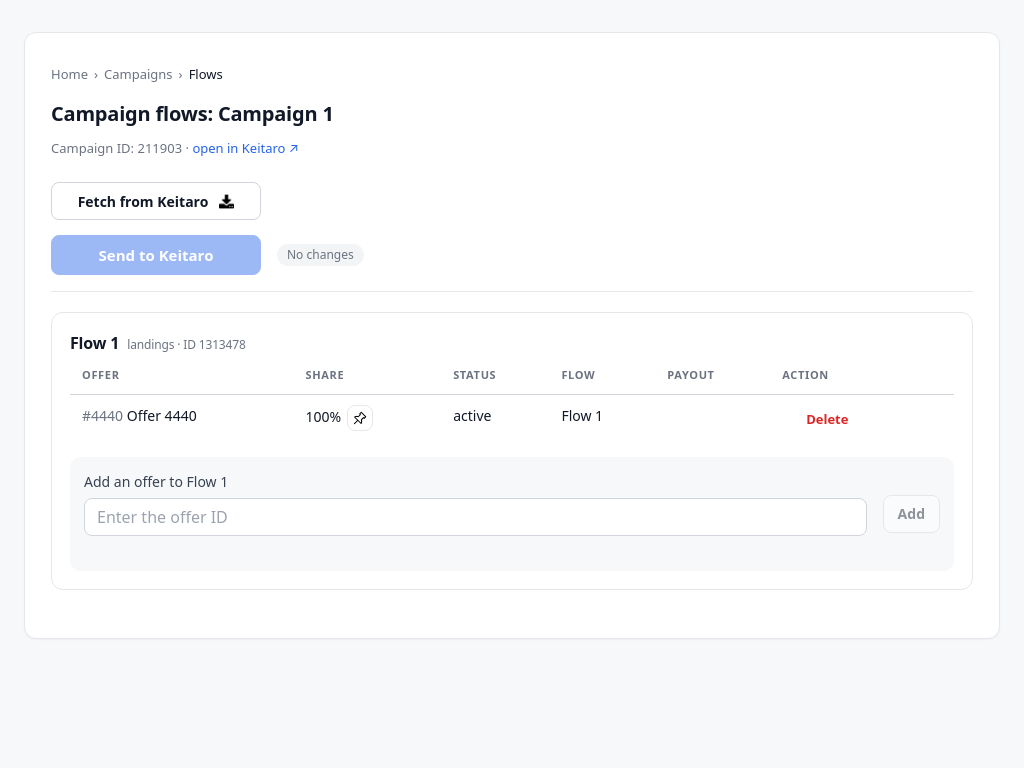
Test: StreamsContent — weight pins › 404 on PUT pins (a backend without pin routes): the honest text "The server does not support pinned weights yet."
The width and height of the screenshot is (1024, 768).
Expected: the text "#4440" is shown, [82,406,123,424]
Step 1. Click the button named "Pin the weight of offer #4440 in flow Flow 1" → {"x": 360, "y": 418}, box [347,404,373,430]
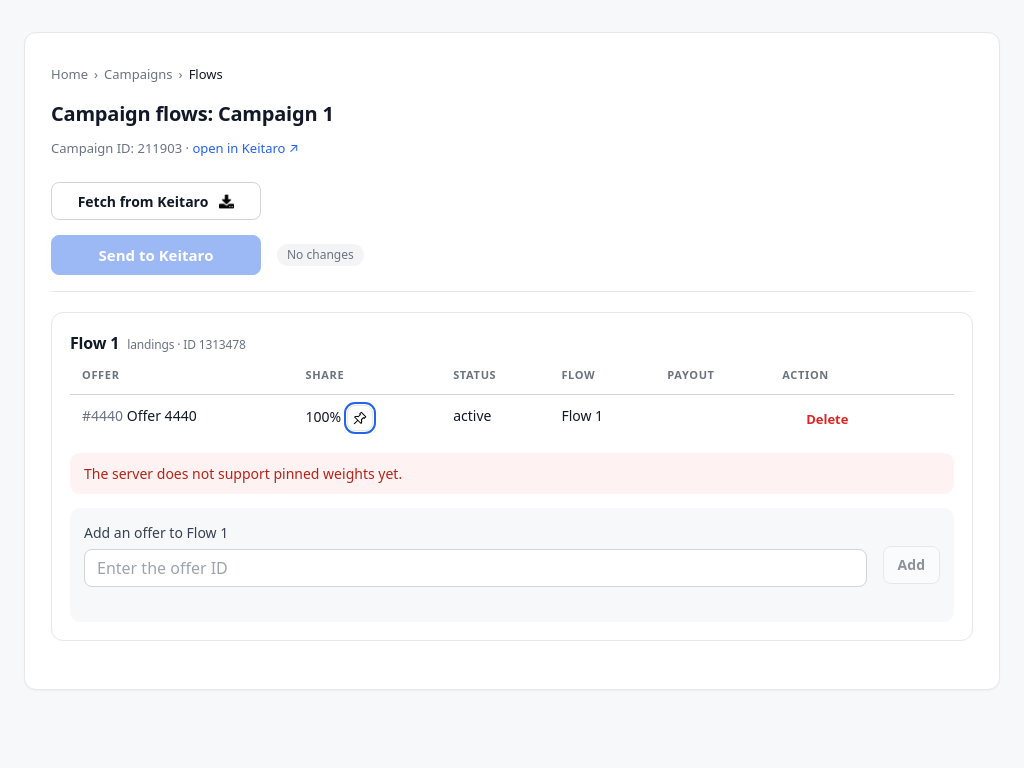
Expected: the text "The server does not support pinned weights yet." is shown, [70,452,954,494]
